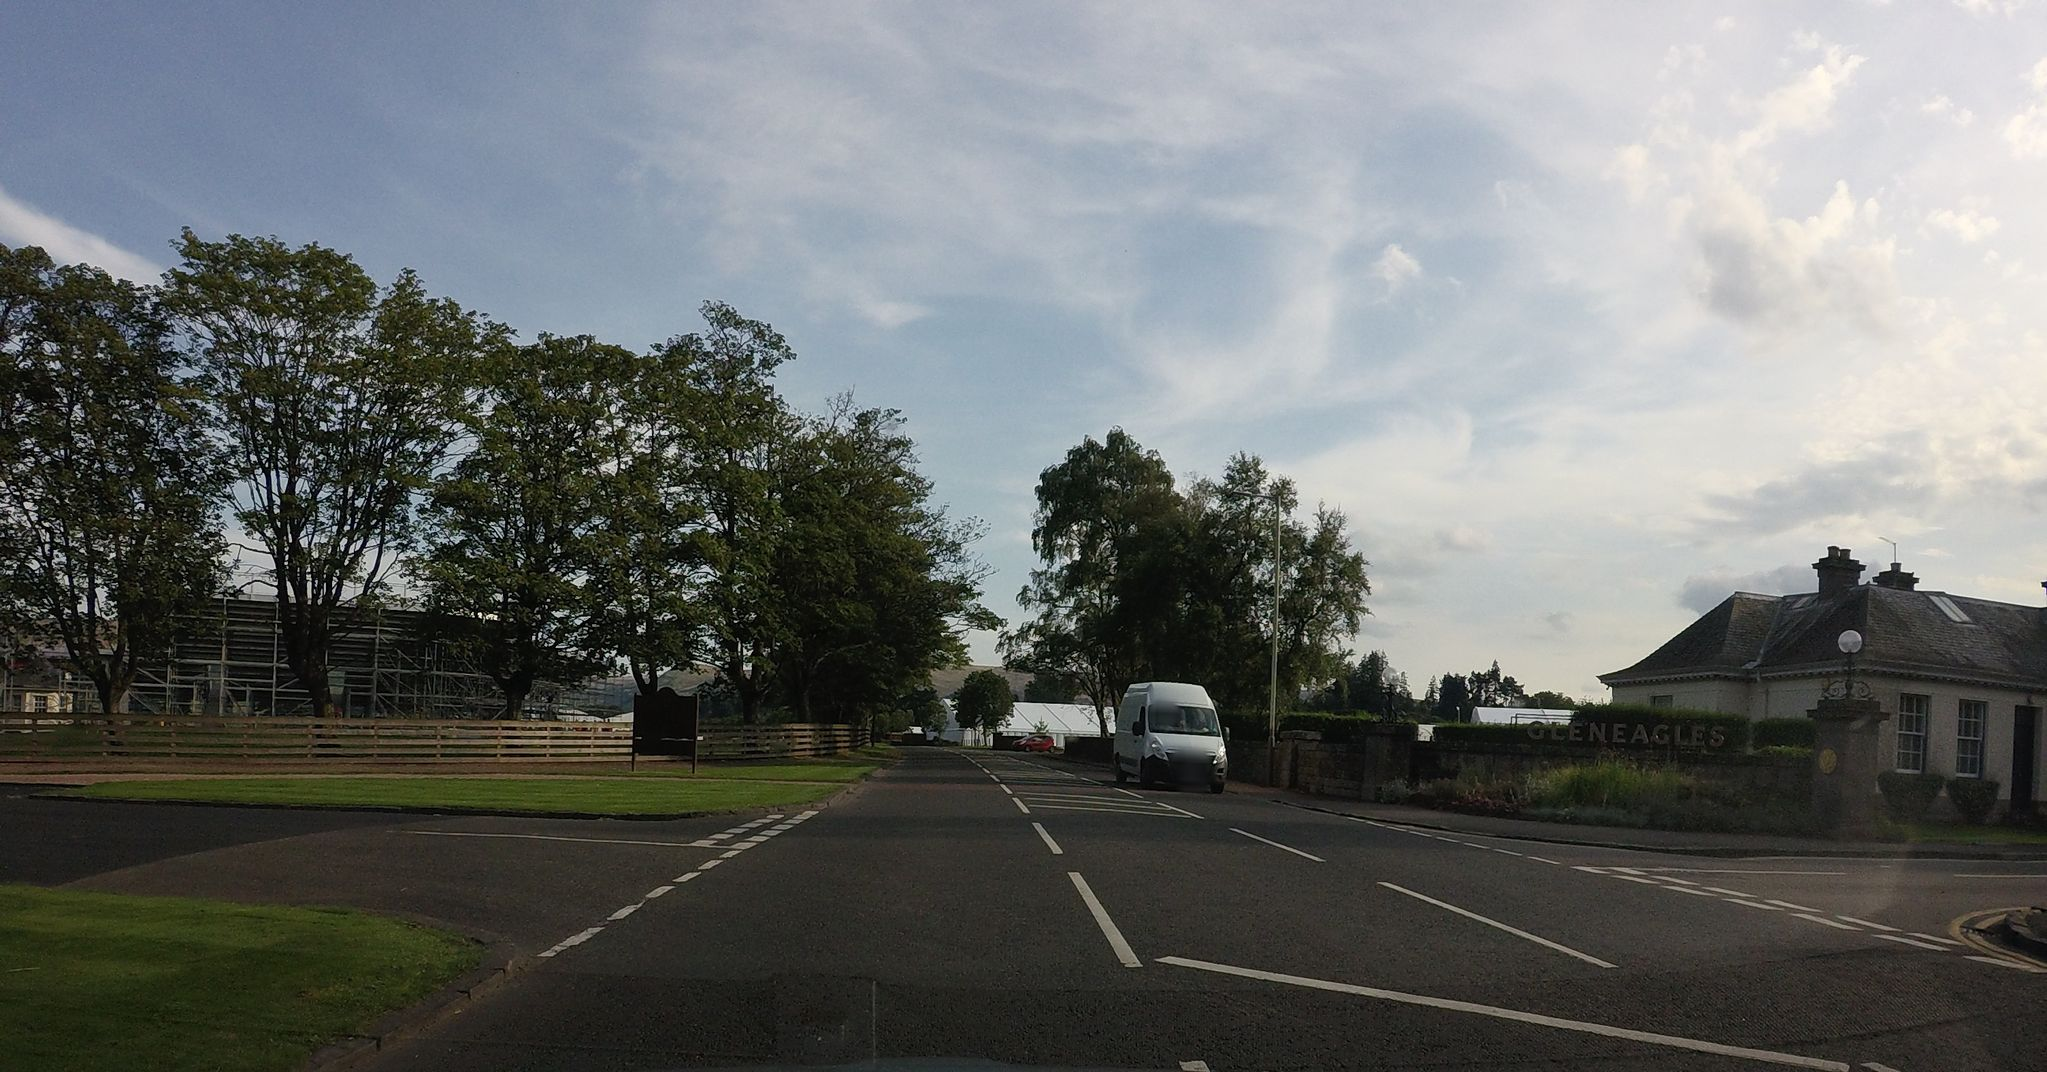car: (1111, 681, 1228, 790), (1011, 734, 1055, 753)
